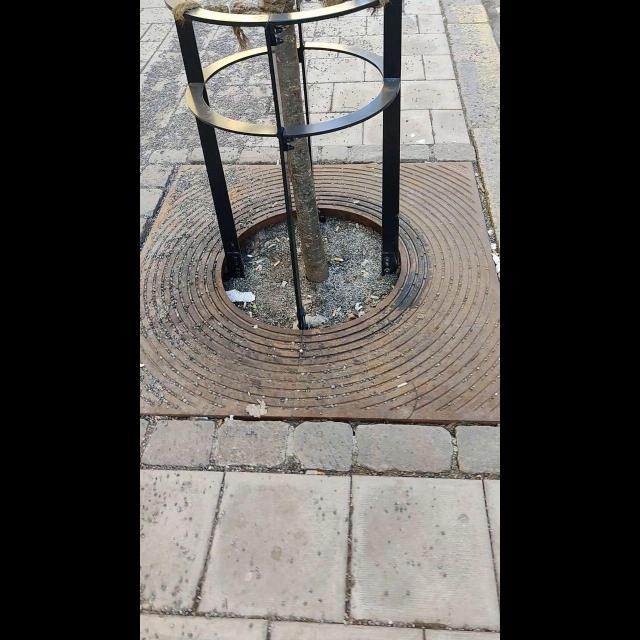cigarette: (492, 249, 500, 256), (279, 280, 286, 288), (396, 383, 407, 388), (370, 295, 380, 300), (334, 258, 344, 262), (271, 202, 277, 208), (332, 309, 336, 318), (242, 302, 246, 310), (249, 310, 253, 318), (274, 261, 280, 266), (275, 236, 279, 242), (255, 265, 259, 271), (336, 225, 339, 232)
